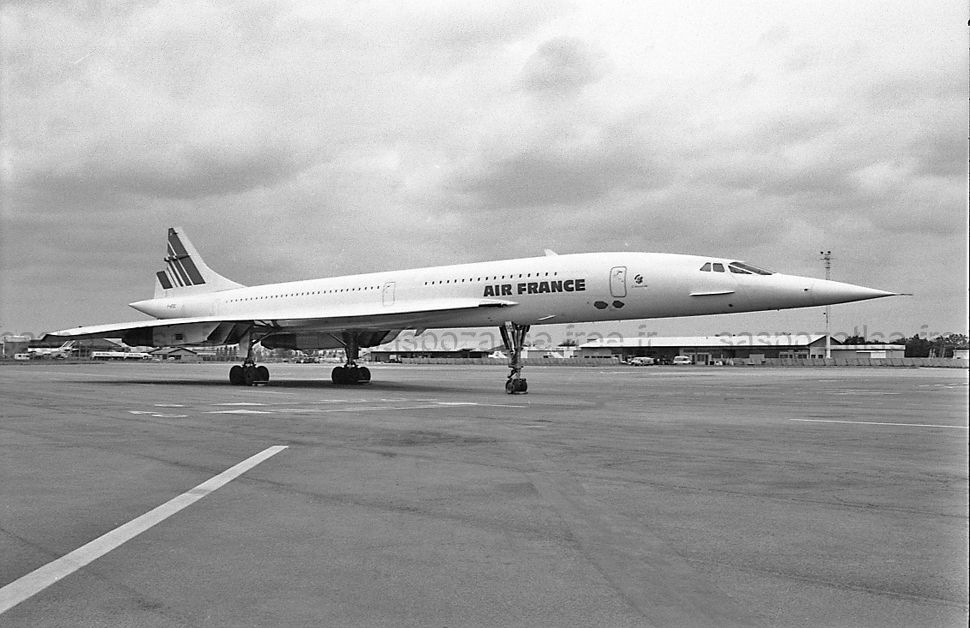Aeronef_commercial: (37, 217, 931, 401)
